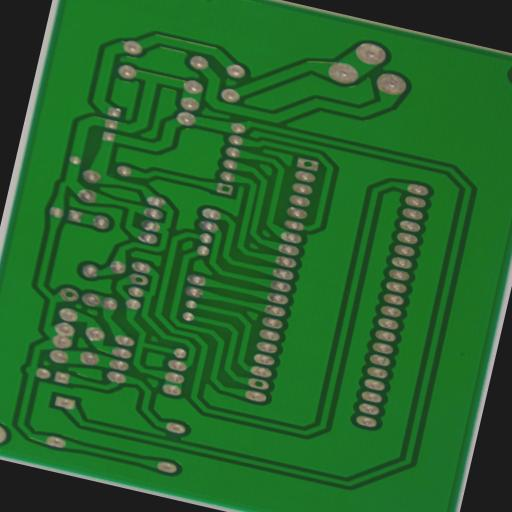missing_hole: (134, 275, 145, 284), (220, 184, 232, 192), (302, 160, 314, 168), (64, 290, 75, 298), (253, 379, 264, 387)
